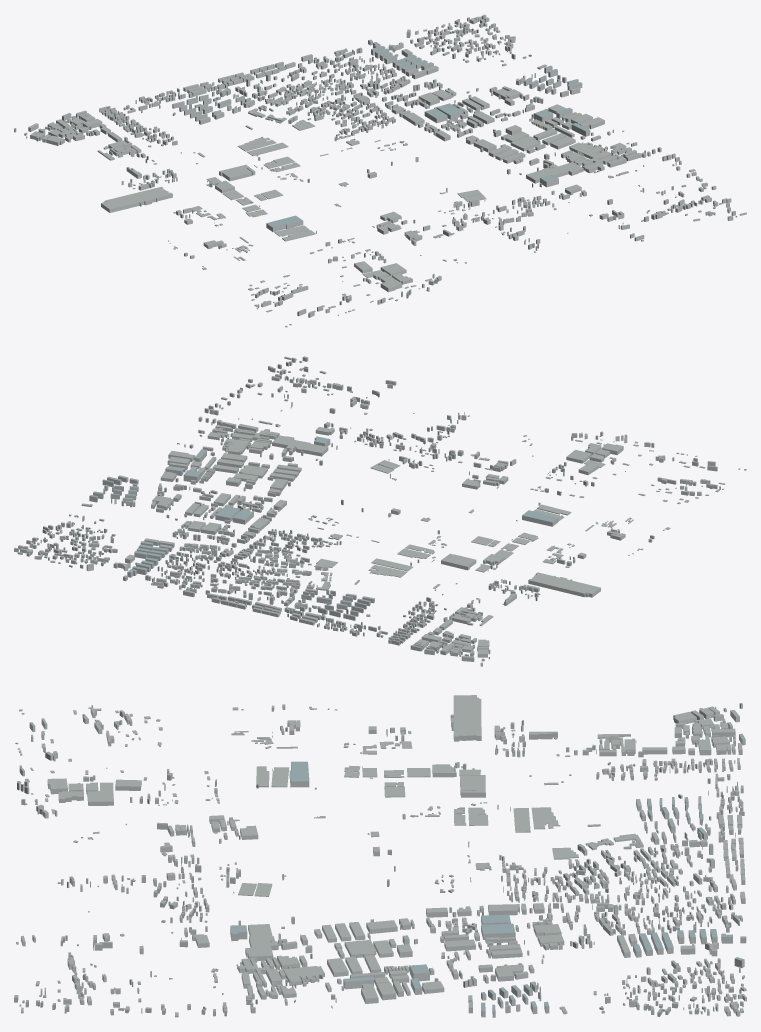
File: far.glb
3 renders of one model, top to bottom at view 1: azimuth 30°, elevation 25°; view 2: azimuth 150°, elevation 25°; view 3: azimuth 270°, elevation 25°, orthographic. The views are drawn at different scales.
Size of the model in its own units: 2168 by 29.84 by 2114.
